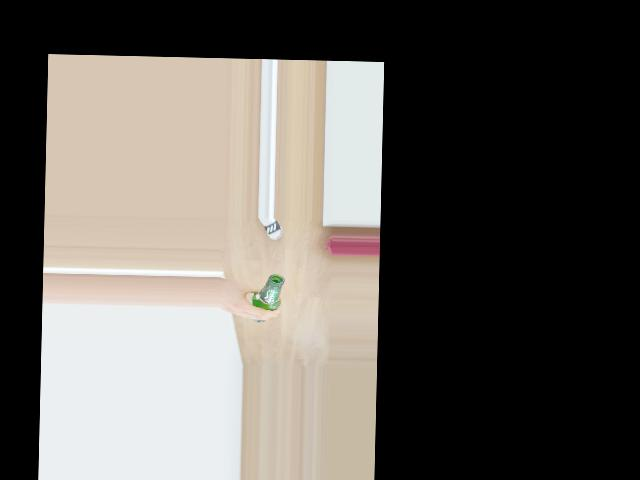beer: (250, 273, 285, 322)
